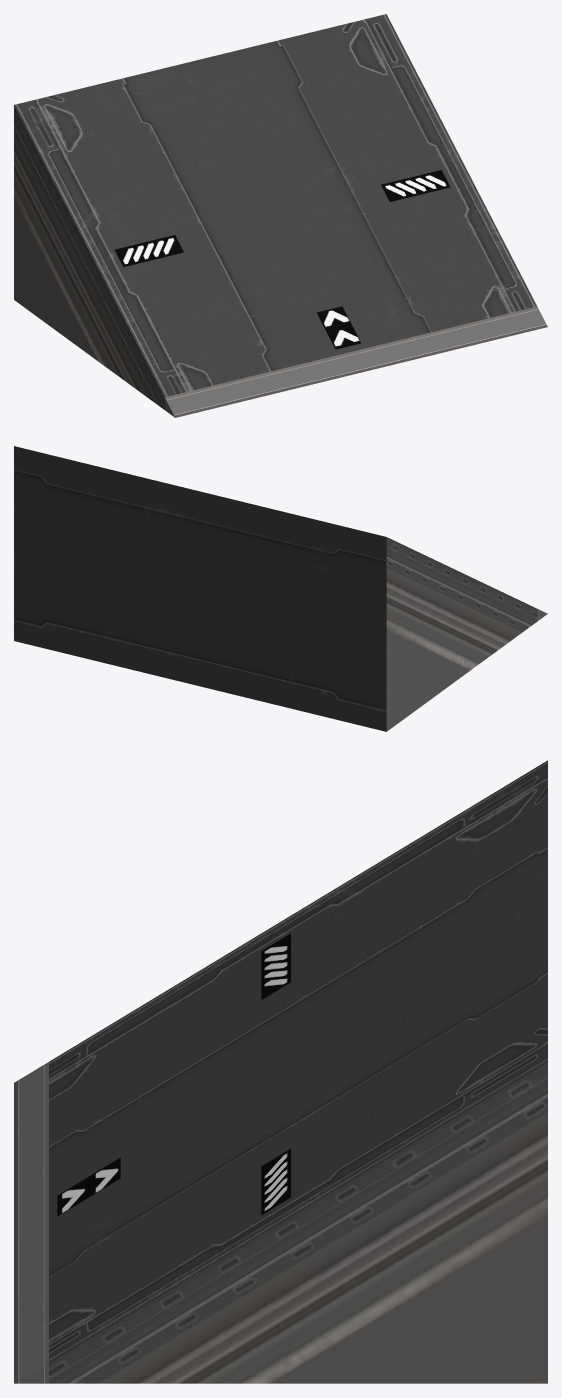
File: platform_ramp_2short.gltf
The picture shows the model from 3 angles, top to bottom: view 1: azimuth 30°, elevation 25°; view 2: azimuth 150°, elevation 25°; view 3: azimuth 270°, elevation 25°; orthographic projection. The views are drawn at different scales.
Parts seen in each view (by area): view 1: Platform_Ramp_2Short; view 2: Platform_Ramp_2Short; view 3: Platform_Ramp_2Short.
Part boxes in pixels (x1,y1,x2,y2): Platform_Ramp_2Short: (14, 14, 547, 417); Platform_Ramp_2Short: (14, 446, 547, 731); Platform_Ramp_2Short: (14, 760, 547, 1383).
Size of the model in its own units: 2 by 1 by 1.5.
3 materials, 3 textured.
